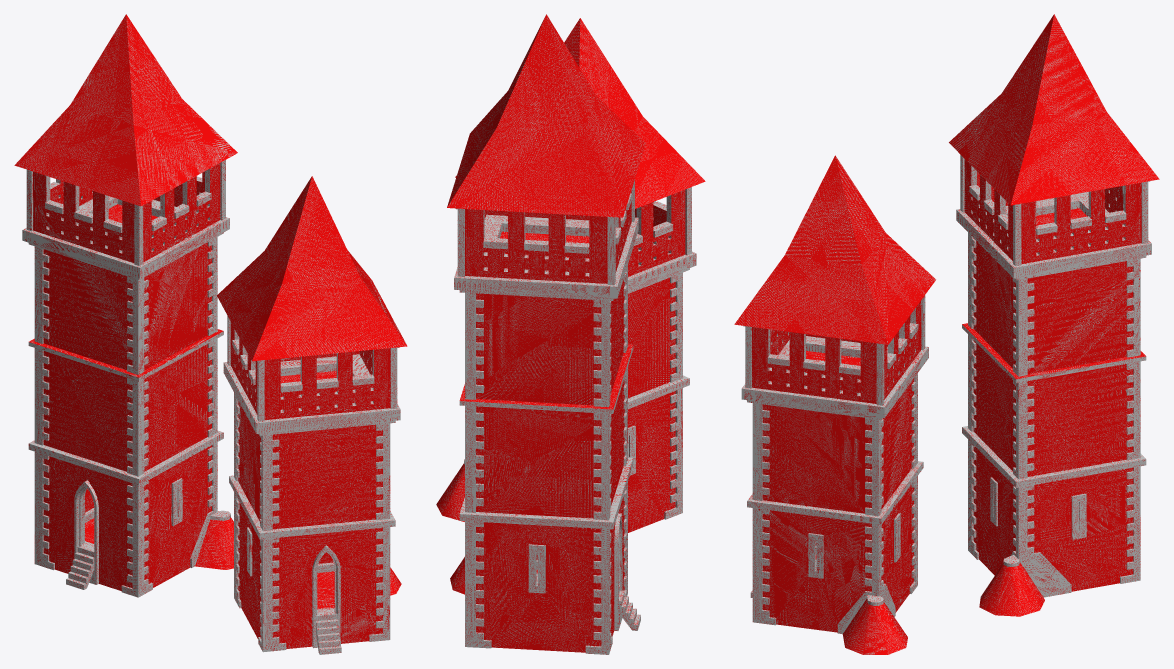
3 renders of one model, left to right at view 1: azimuth 30°, elevation 25°; view 2: azimuth 150°, elevation 25°; view 3: azimuth 270°, elevation 25°, orthographic. The views are drawn at different scales.
Visible parts, largest first — view 1: mesh3_mesh3-geometry, mesh2_mesh2-geometry, mesh1_mesh1-geometry; view 2: mesh3_mesh3-geometry, mesh2_mesh2-geometry, mesh1_mesh1-geometry; view 3: mesh3_mesh3-geometry, mesh2_mesh2-geometry, mesh1_mesh1-geometry.
Boxes of the visible parts, <box> form: mesh3_mesh3-geometry: <box>14,14,407,433</box>; mesh2_mesh2-geometry: <box>28,232,395,530</box>; mesh1_mesh1-geometry: <box>28,430,401,654</box>; mesh3_mesh3-geometry: <box>447,14,705,298</box>; mesh2_mesh2-geometry: <box>459,255,689,520</box>; mesh1_mesh1-geometry: <box>436,375,689,654</box>; mesh3_mesh3-geometry: <box>734,14,1159,418</box>; mesh2_mesh2-geometry: <box>747,232,1146,516</box>; mesh1_mesh1-geometry: <box>747,426,1146,654</box>.
Size of the model in its own units: 0.3929 by 0.7536 by 0.527.
